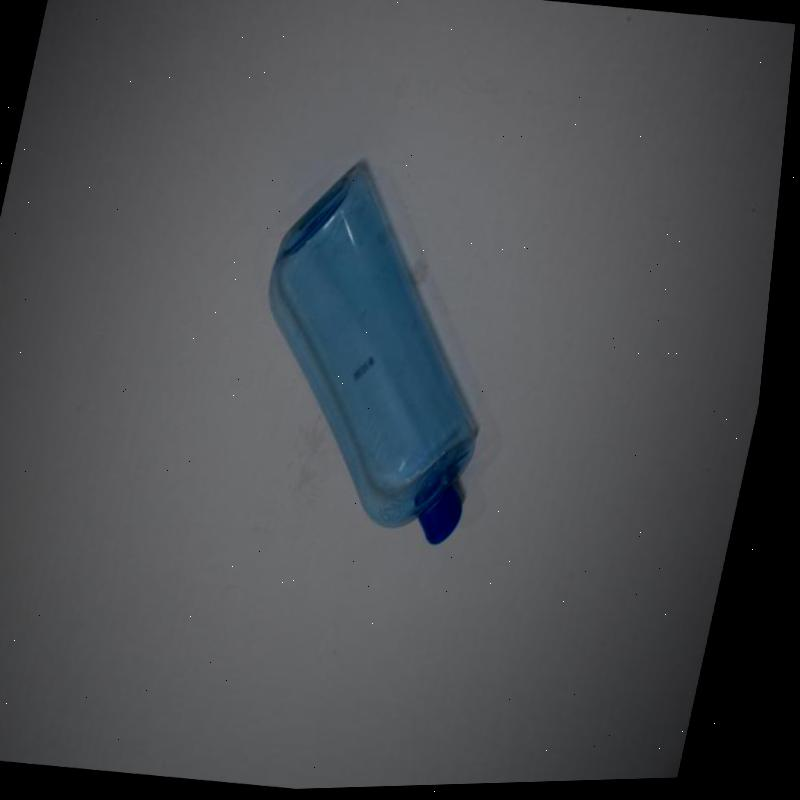botella: (223, 147, 540, 552)
